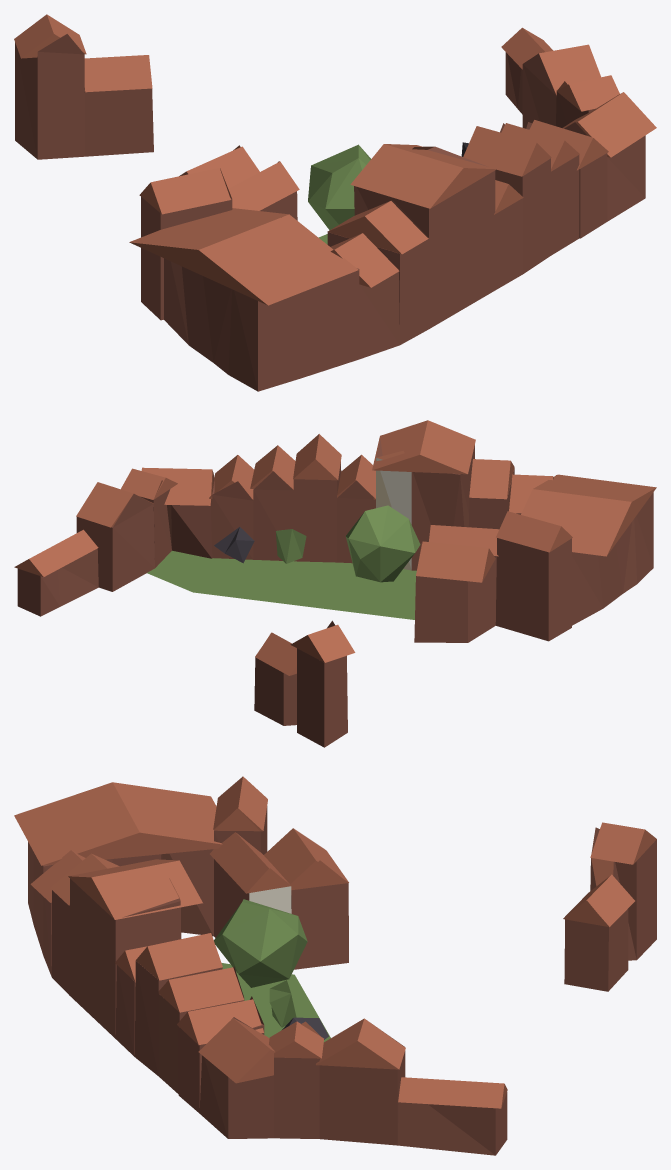
Rendered from begijnhof.lod2.glb.
The picture shows the model from 3 angles, top to bottom: view 1: azimuth 30°, elevation 25°; view 2: azimuth 150°, elevation 25°; view 3: azimuth 270°, elevation 25°; orthographic projection. The views are drawn at different scales.
Visible parts, largest first — view 1: lod2; view 2: lod2; view 3: lod2.
Part boxes in pixels (x1,y1,x2,y2): lod2: (14, 14, 656, 391); lod2: (14, 420, 656, 747); lod2: (14, 776, 656, 1155).
Size of the model in its own units: 74.29 by 18 by 74.61.
